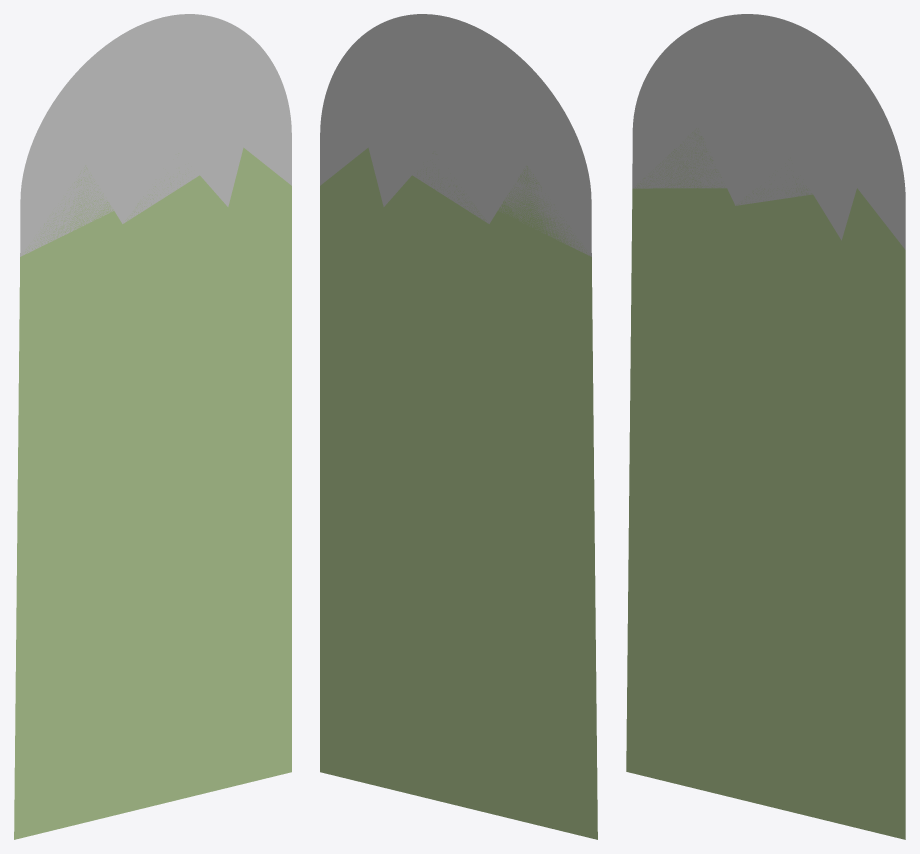
The model's file is montain03_fbx.fbx.
The picture shows the model from 3 angles, left to right: view 1: azimuth 30°, elevation 25°; view 2: azimuth 150°, elevation 25°; view 3: azimuth 330°, elevation 25°; orthographic projection.
Visible parts, largest first — view 1: mountain03; view 2: mountain03; view 3: mountain03.
Boxes of the visible parts, x1=… form: mountain03: x1=14, y1=14, x2=291, y2=839; mountain03: x1=320, y1=14, x2=597, y2=839; mountain03: x1=626, y1=14, x2=905, y2=839.
Size of the model in its own units: 666 by 1800 by 2.31e-12.
